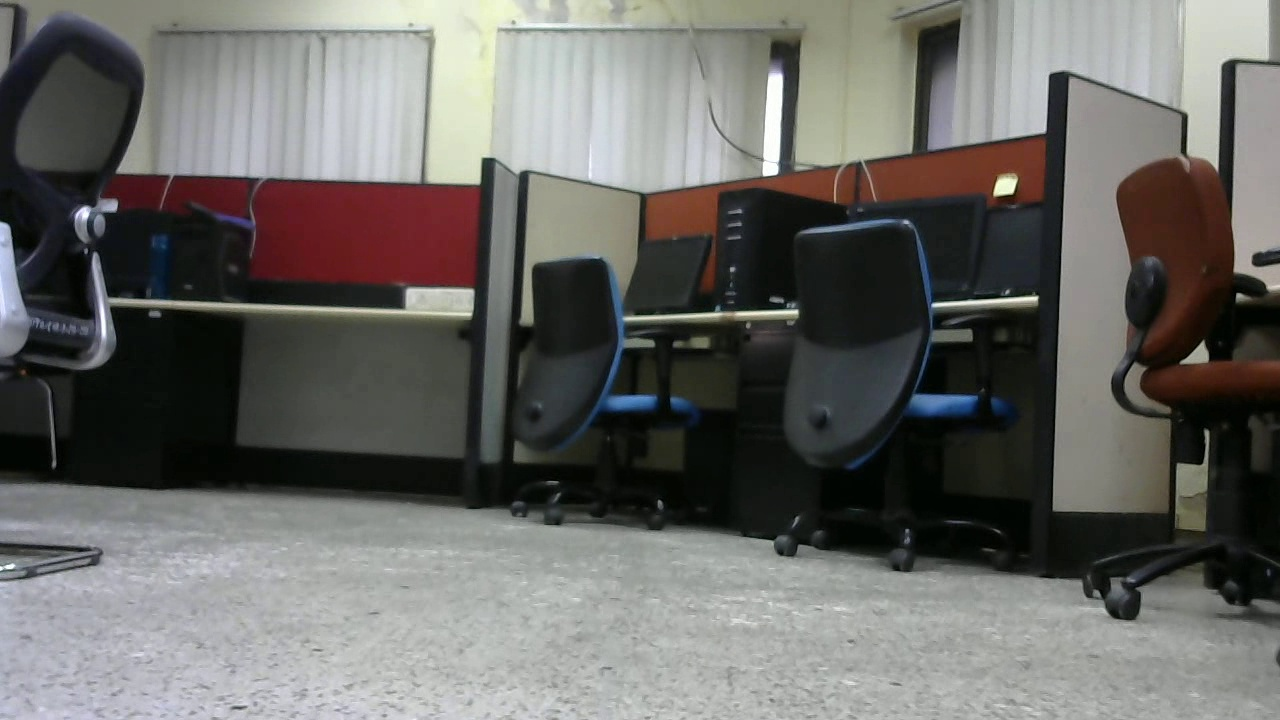chair: (772, 210, 1015, 569), (1097, 157, 1280, 626), (502, 255, 704, 531)
